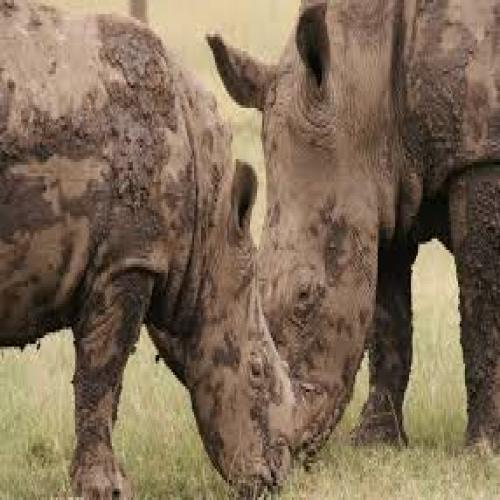rhino-endangered: (0, 13, 297, 497), (217, 6, 500, 462)
